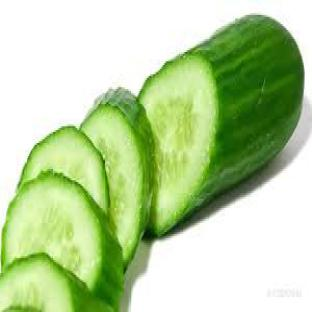Cucumber: (139, 15, 303, 235), (2, 173, 123, 310), (82, 88, 152, 267), (19, 127, 109, 211), (0, 255, 113, 311), (4, 307, 40, 311)
